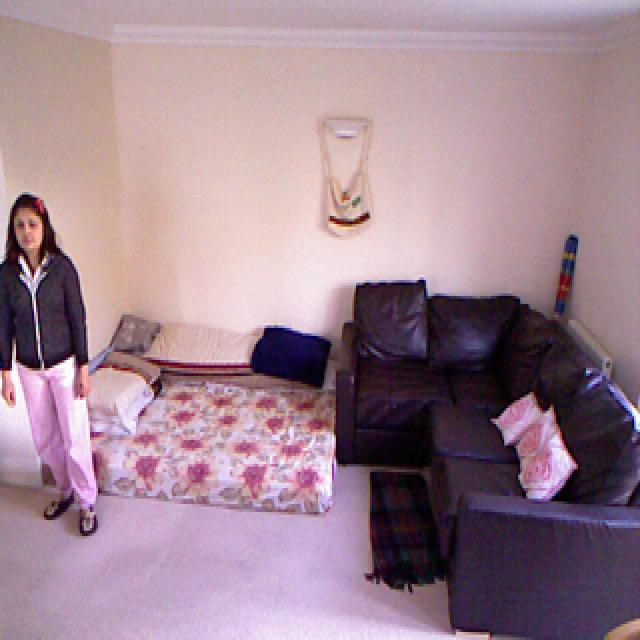standing: (0, 193, 99, 537)
